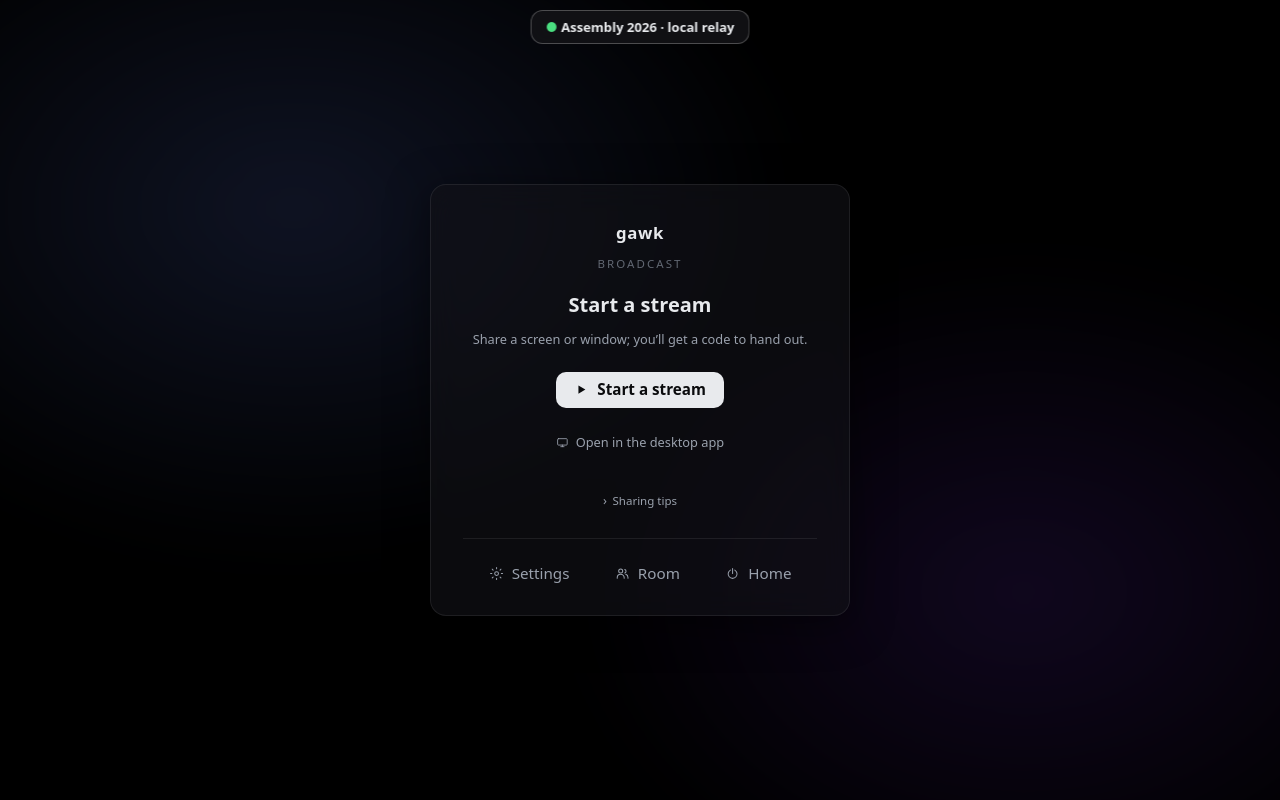
the web broadcaster and local relays › a followed PoP that refuses the /publish sends the tab home, with no secret prompt and no loop back
This screenshot has width=1280, height=800.
Click the button "Start a stream": (640, 390) x1=556 y1=372 x2=724 y2=408
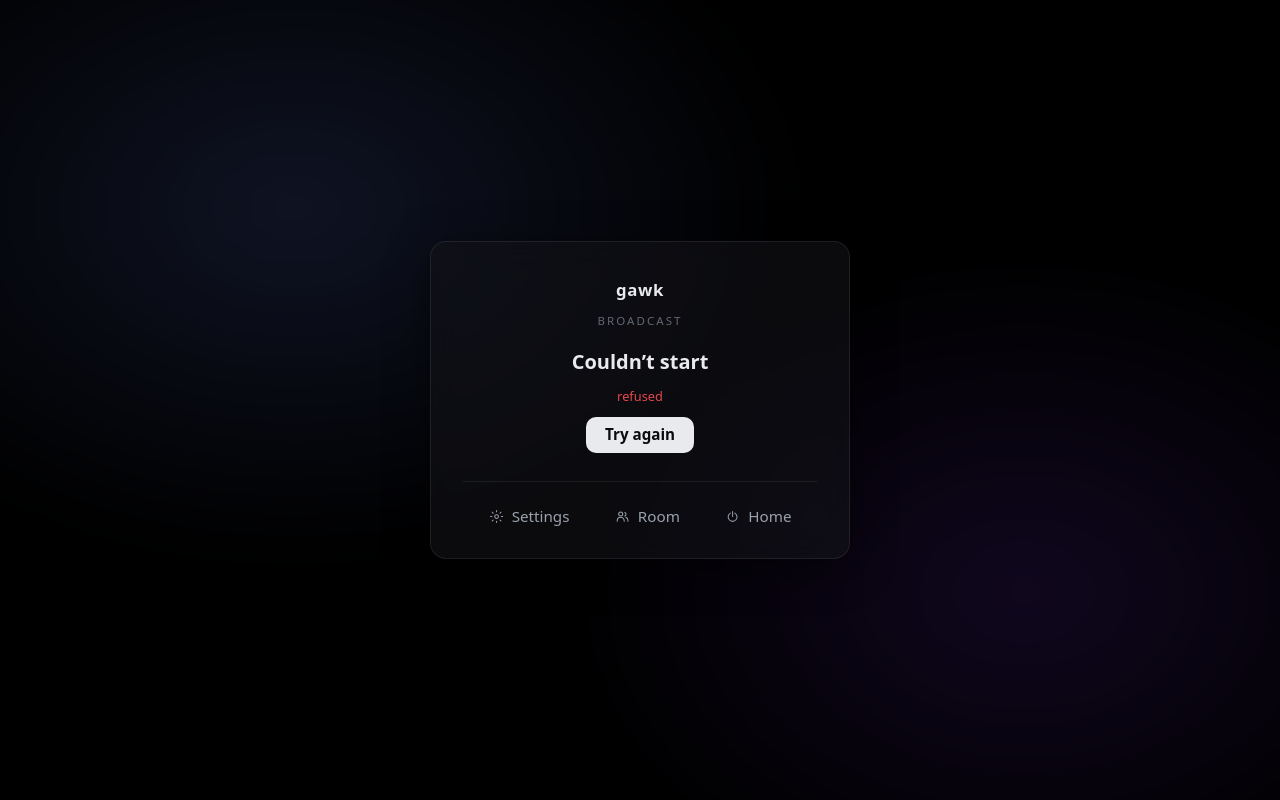
Now the heading "Couldn’t start" is shown, box x1=572 y1=348 x2=708 y2=375
